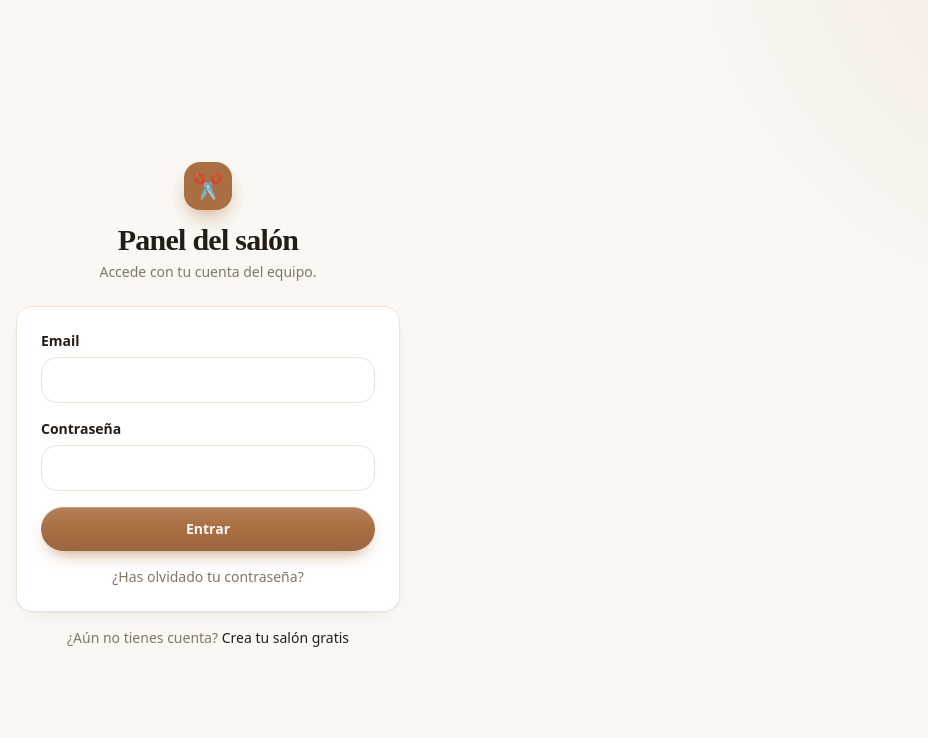
Test: Panel · Login › avisa si el código de verificación es incorrecto
Step 1. Type "admin@salon.es" into the field labelled "Email" → (208,380), box [41,357,375,403]
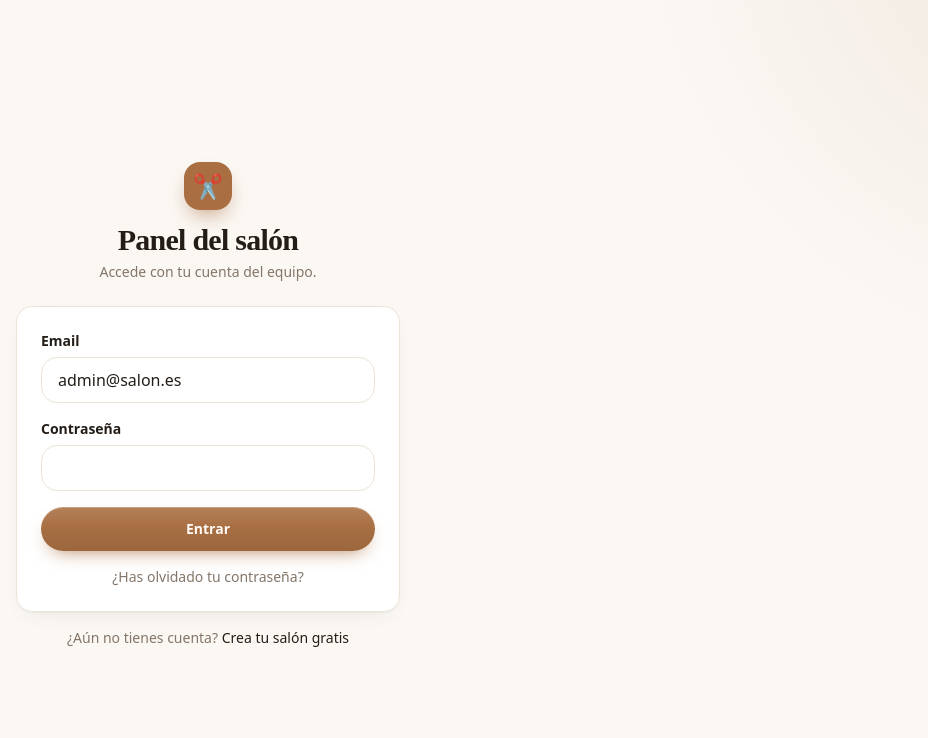
Step 2. Type "admin1234" into the password field labelled "Contraseña" → (208,468), box [41,445,375,491]
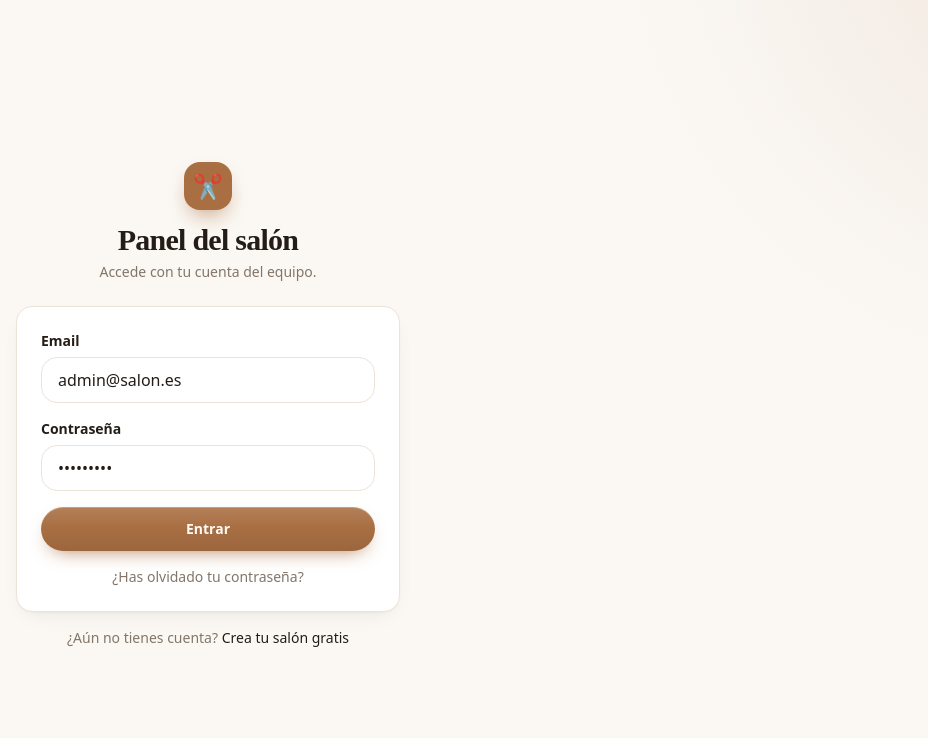
Step 3. Click the button "Entrar" → (208,529), box [41,507,375,551]
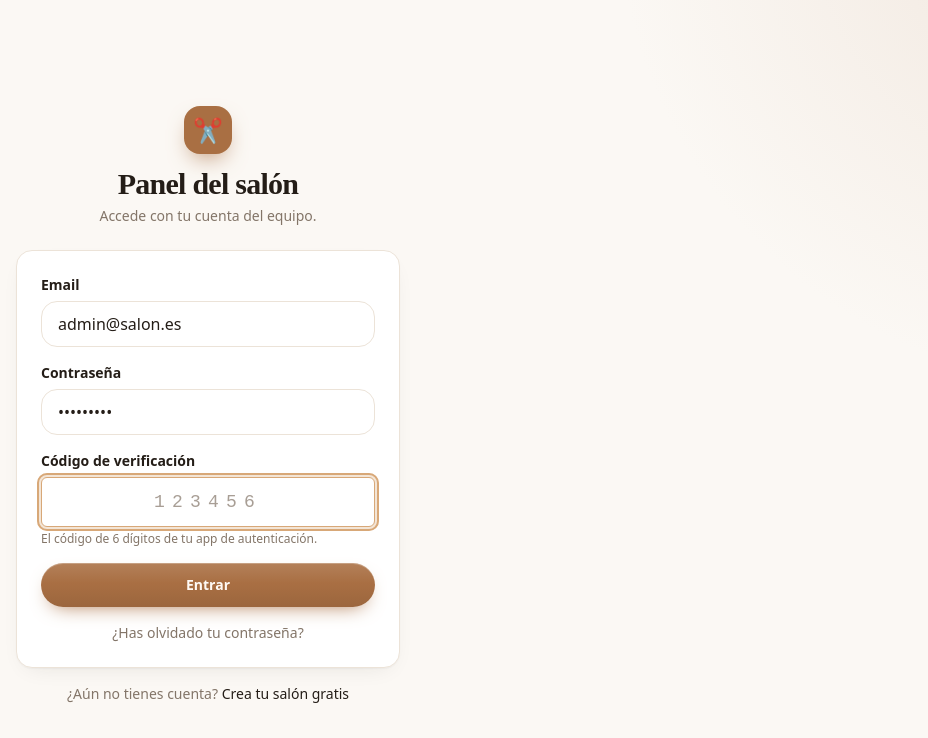
Step 4. Type "000000" into the field labelled "Código de verificación" → (208,502), box [41,477,375,527]
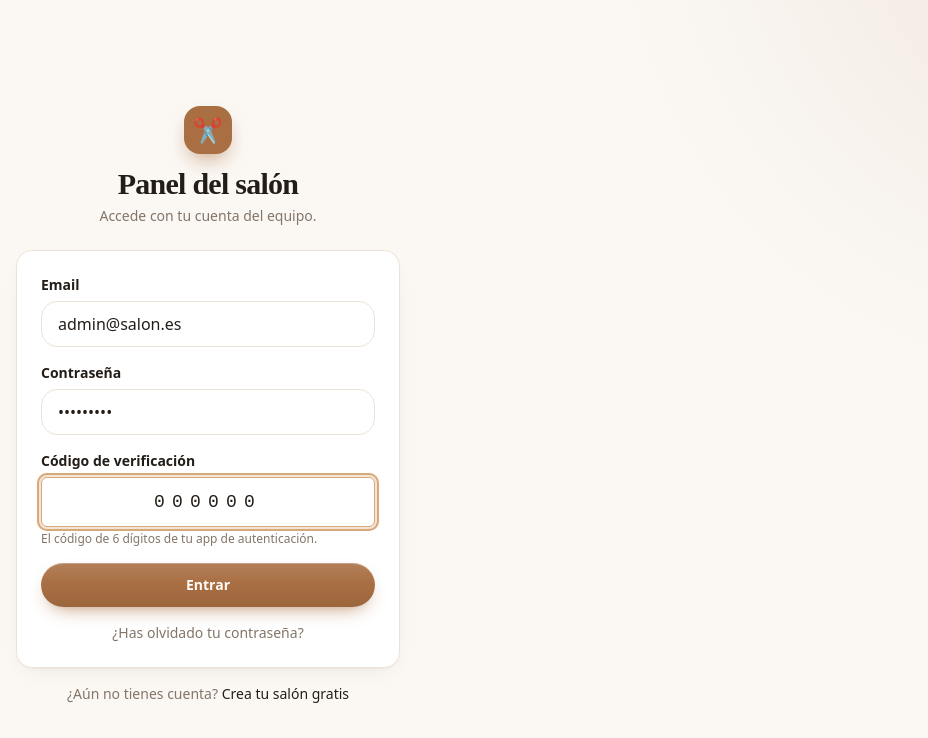
Step 5. Click the button "Entrar" → (208,585), box [41,563,375,607]
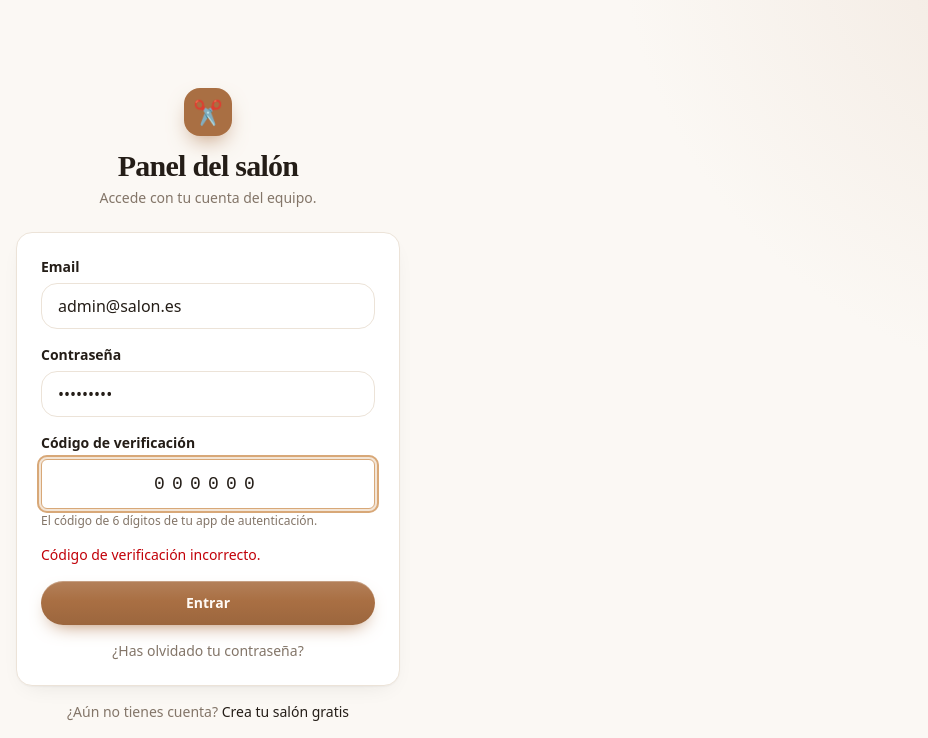
Expected: the text "Código de verificación incorrecto." is shown, [41,545,260,564]
